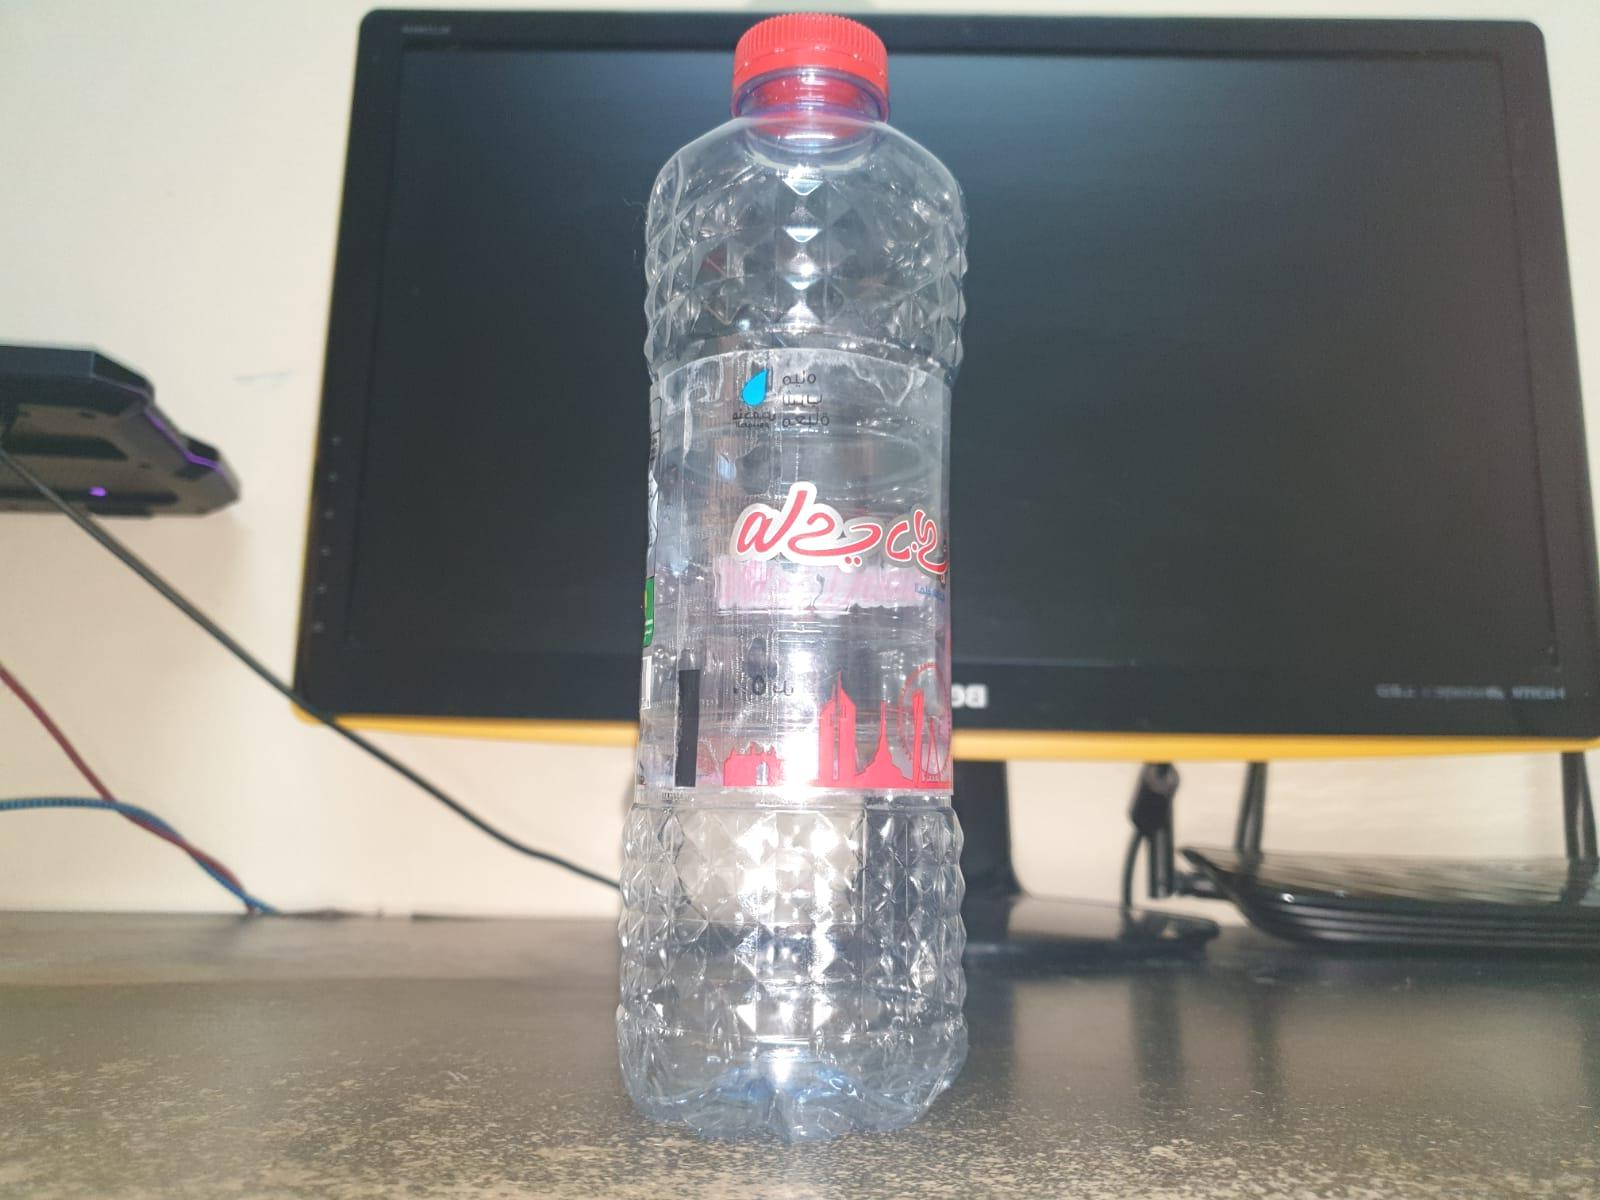bottle: (604, 0, 990, 1142)
